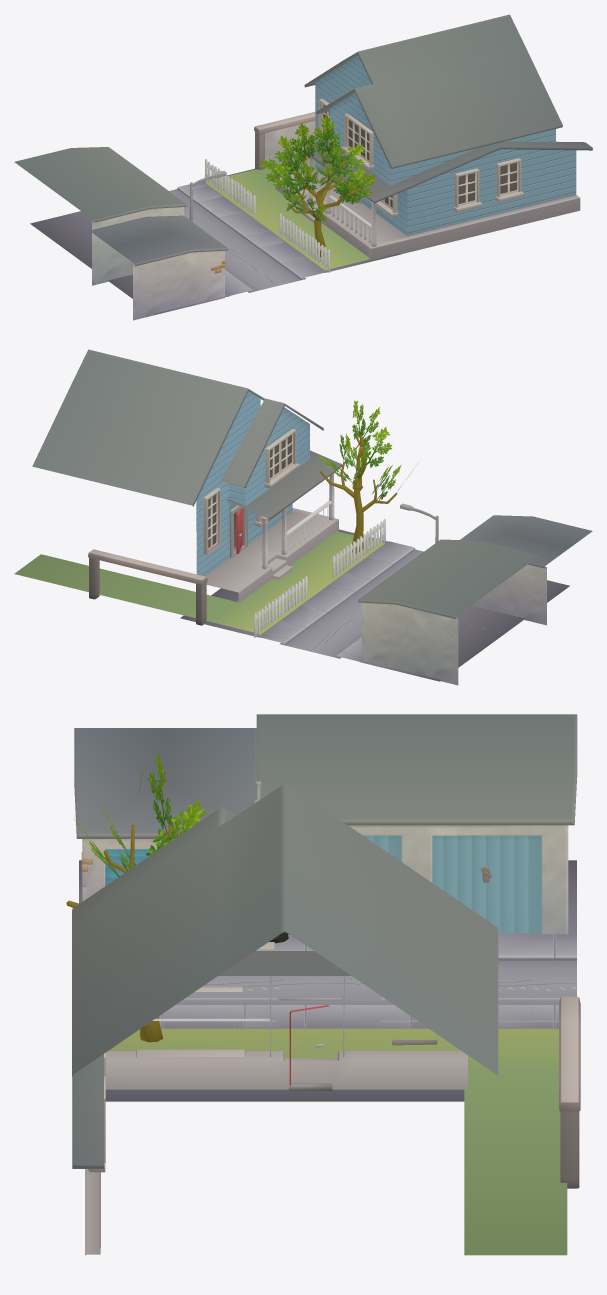
The model's file is SuburbsHouse03.prefab.glb.
3 renders of one model, top to bottom at view 1: azimuth 30°, elevation 25°; view 2: azimuth 150°, elevation 25°; view 3: azimuth 270°, elevation 25°, orthographic. The views are drawn at different scales.
Visible parts, largest first — view 1: House, Garage06, Garage03, Tree01, SuburbsHouse03, Road02, PlasteredWall01 (2), WoodFence02 (4), WoodFence02 (3); view 2: House, Garage06, Road02, Garage03, SuburbsHouse03, Tree01, PlasteredWall01 (2), WoodFence02 (4), WoodFence02 (3); view 3: House, Garage06, Garage03, Road02, SuburbsHouse03, PlasteredWall01 (2), Tree01.
Part boxes in pixels (x1,y1,x2,y2): House: (206, 14, 592, 270); Garage06: (14, 147, 187, 285); Garage03: (89, 215, 228, 320); Tree01: (259, 114, 374, 257); SuburbsHouse03: (108, 227, 400, 314); Road02: (30, 168, 264, 268); PlasteredWall01 (2): (254, 112, 315, 169); WoodFence02 (4): (279, 213, 330, 272); WoodFence02 (3): (205, 159, 255, 215); House: (14, 349, 384, 634); Garage06: (358, 539, 539, 685); Road02: (180, 588, 504, 681); Garage03: (460, 515, 592, 625); SuburbsHouse03: (323, 529, 569, 633); Tree01: (316, 400, 413, 553); PlasteredWall01 (2): (88, 549, 207, 625); WoodFence02 (4): (332, 519, 385, 577); WoodFence02 (3): (254, 576, 307, 637); House: (72, 783, 567, 1255); Garage06: (256, 714, 577, 934); Garage03: (74, 728, 256, 901); Road02: (328, 860, 576, 1101); SuburbsHouse03: (79, 860, 327, 1101); PlasteredWall01 (2): (559, 996, 580, 1188); Tree01: (66, 753, 206, 1042).
Size of the model in its own units: 38.2 by 13.22 by 20.04.
Materials: 5 (4 with a texture image).
